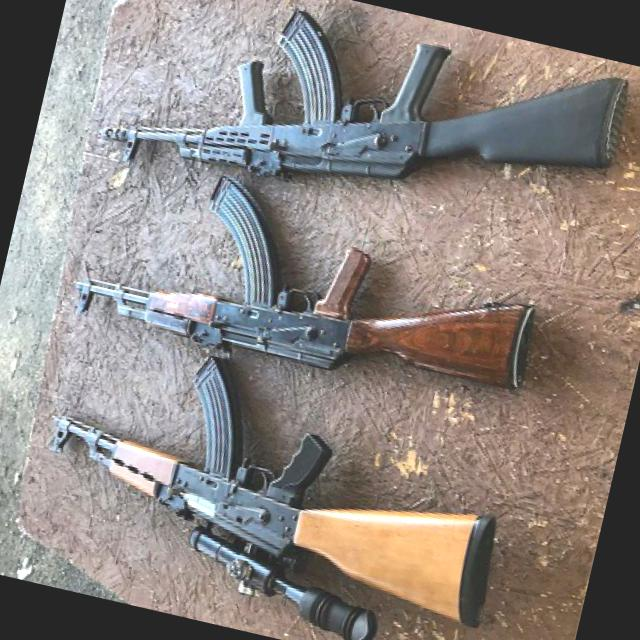long weapon: (33, 140, 574, 437), (0, 339, 520, 639), (85, 0, 639, 267)
